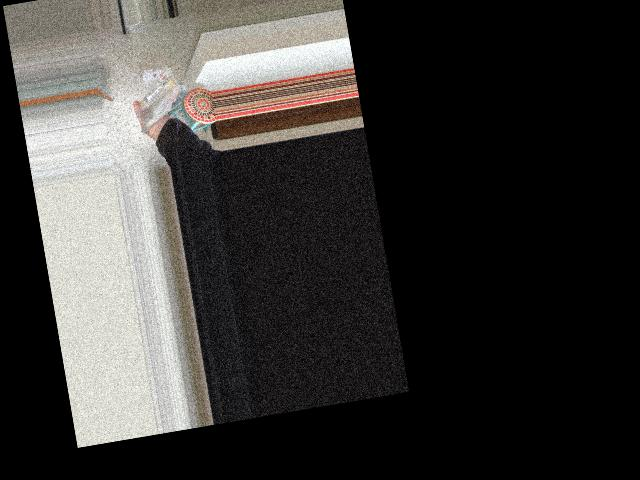cheese: (123, 55, 210, 139)
